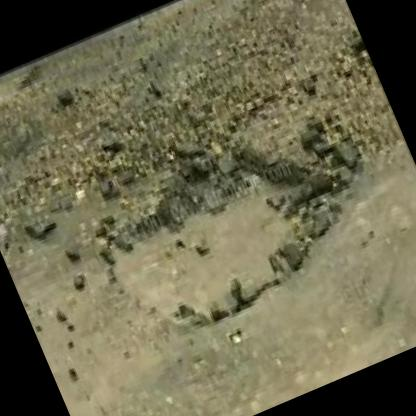pothole: (79, 107, 370, 355)
